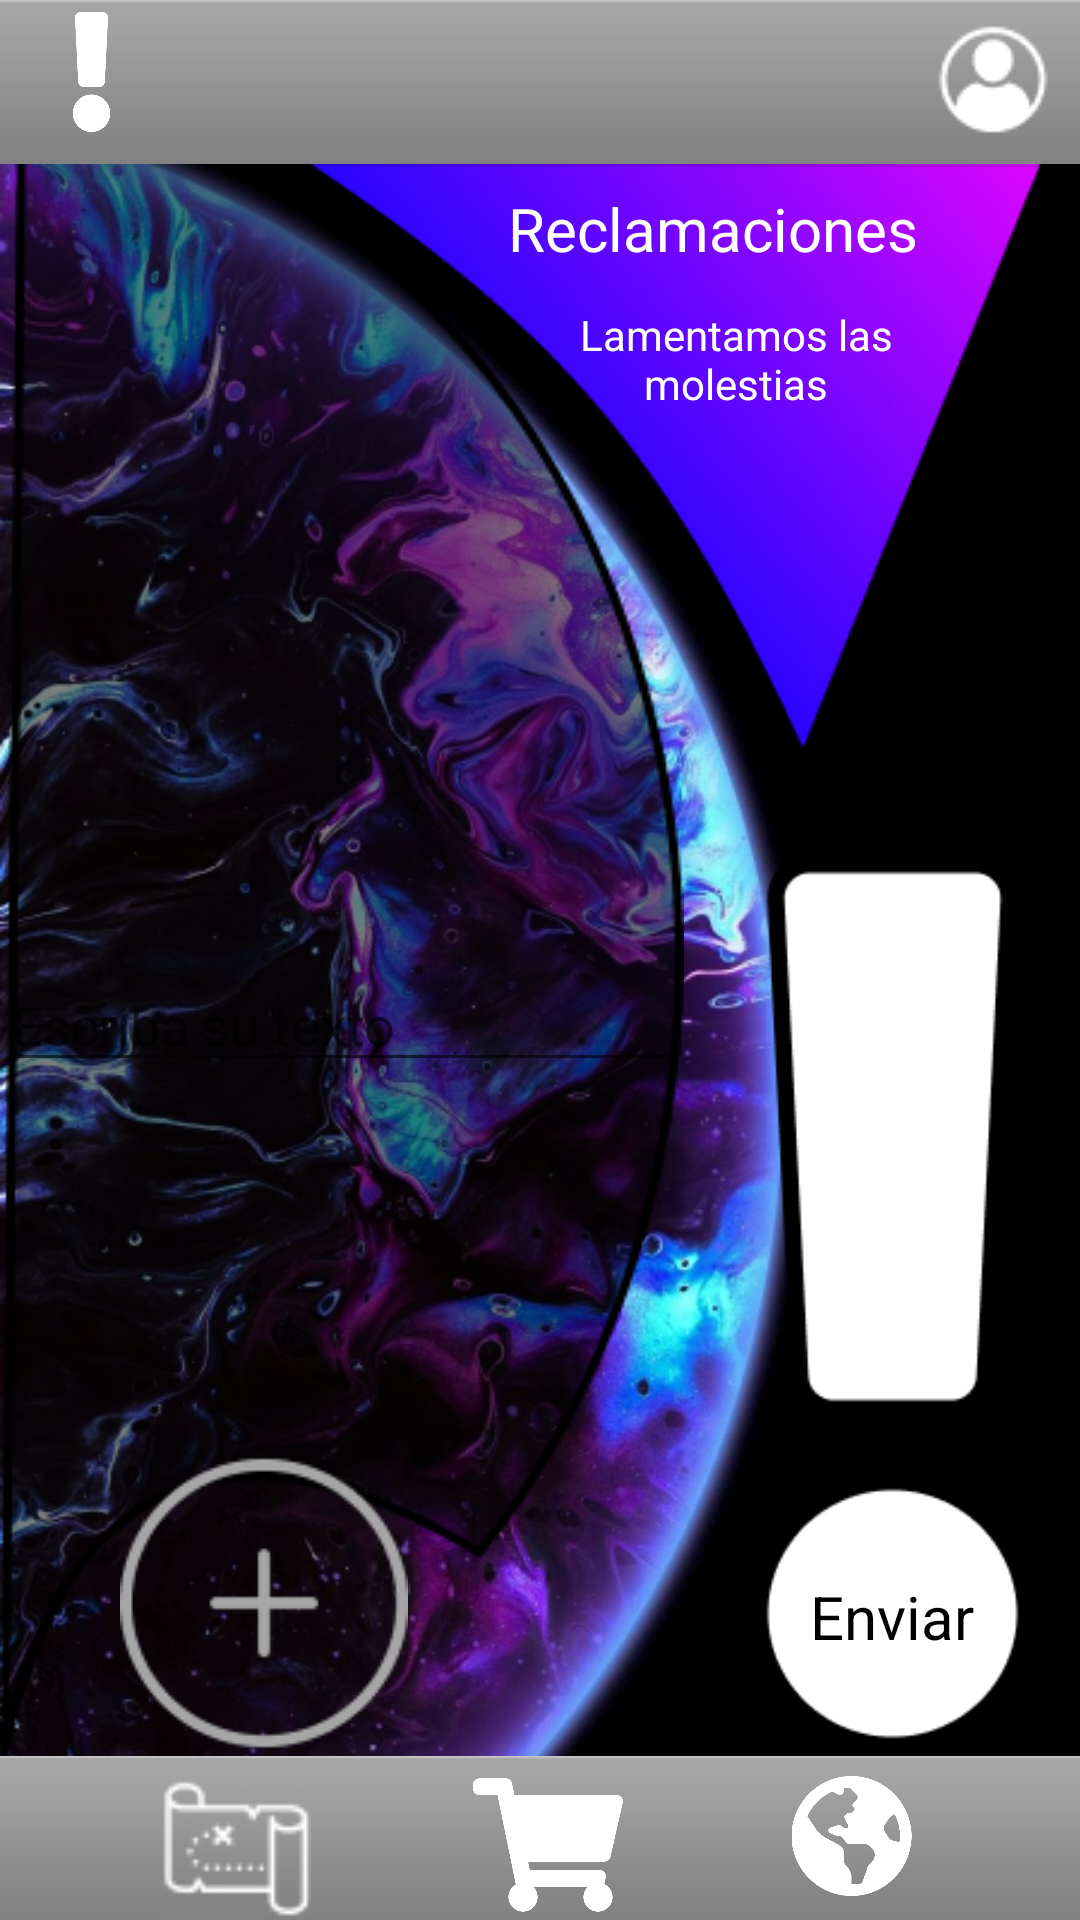

Screen size 1080px x 1920px. Icon name, then its center in pixels as [x,y]:
earthicon: [851,1836]
mapawhite: [236,1850]
profile: [993,79]
shoping: [548,1849]
